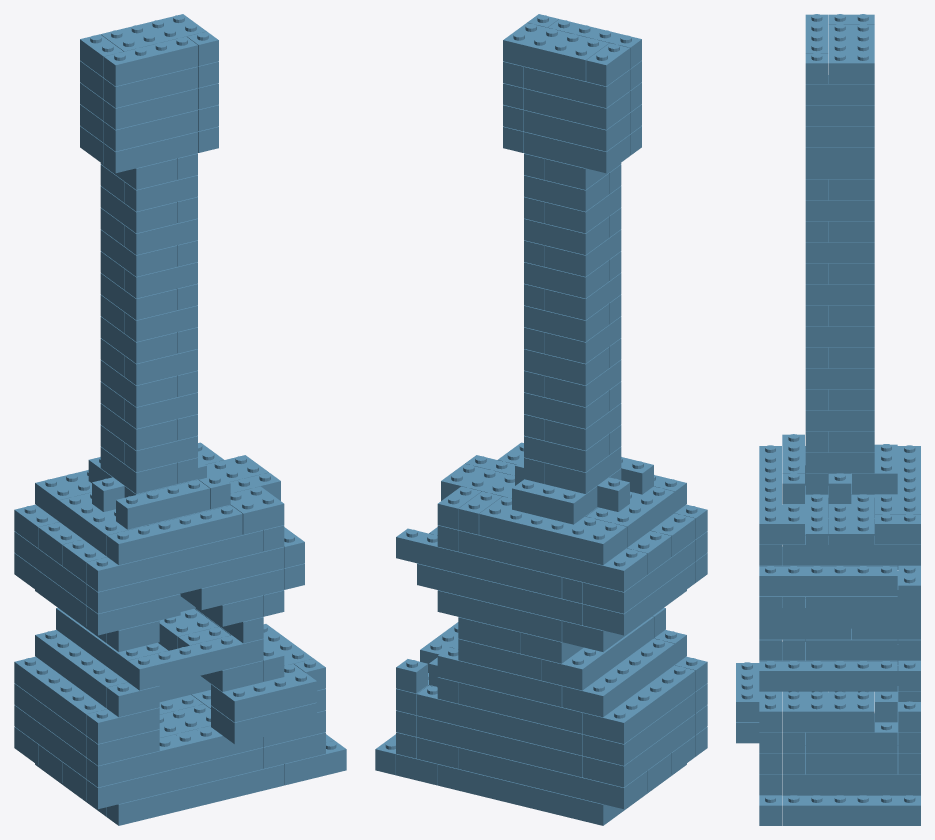
Rendered from 170_guitar_L5.glb.
3 renders of one model, left to right at view 1: azimuth 30°, elevation 25°; view 2: azimuth 150°, elevation 25°; view 3: azimuth 270°, elevation 25°, orthographic. The views are drawn at different scales.
Bounding box in the file's own units: 11.98 × 34.13 × 7.98.
